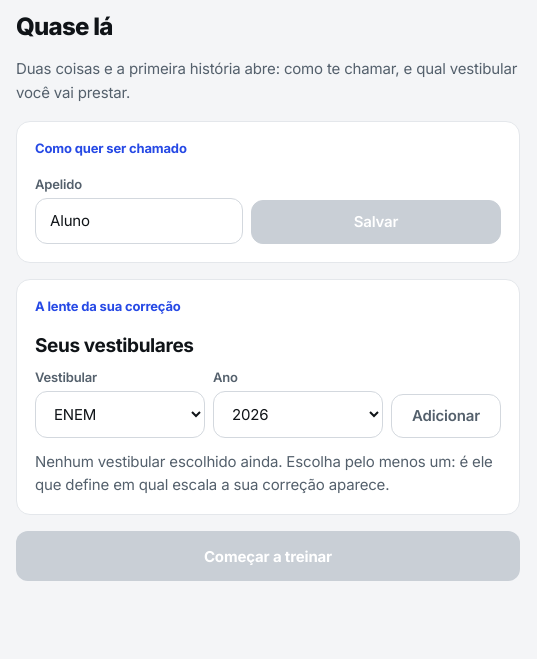
onboarding › salva o apelido
The image size is (537, 659).
Replace the text in the field labelled "Apelido" with "Kauã" at coordinates (139, 221), box [35, 198, 243, 244]
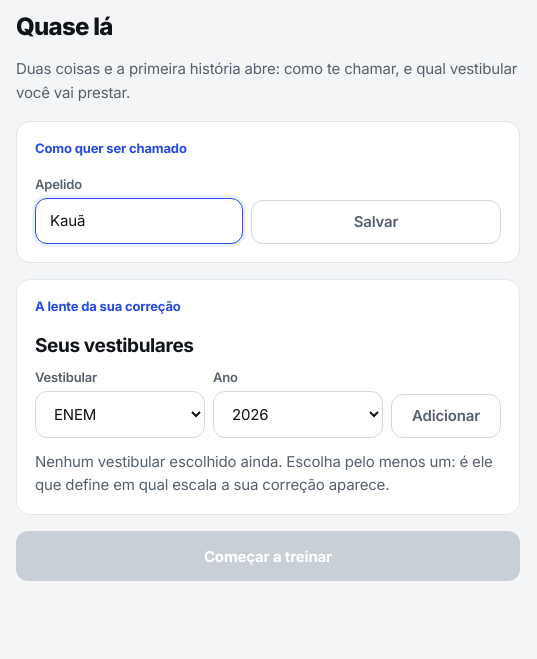
Click the button "Salvar" at coordinates (376, 222), box [251, 200, 501, 244]
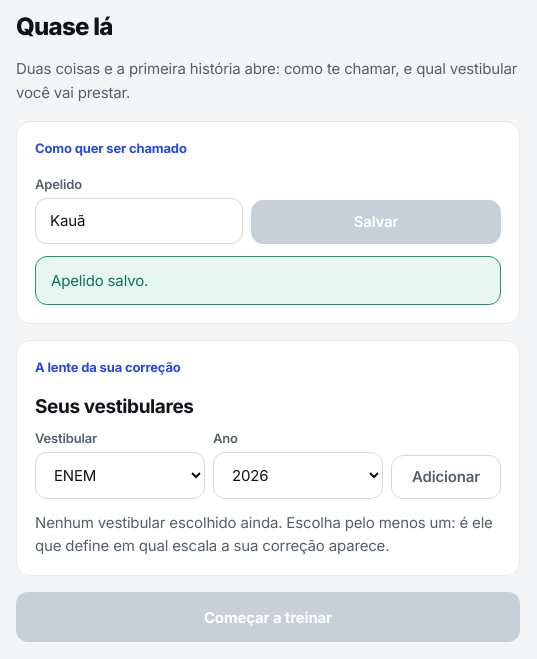
Result: the message shows "Apelido salvo" at [51, 271, 148, 290]
